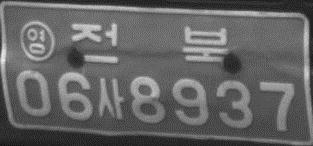0: (16, 69, 52, 117)
3: (215, 79, 253, 130)
6: (56, 71, 93, 122)
7: (258, 80, 295, 132)
8: (128, 75, 166, 124)
9: (171, 77, 209, 126)
사: (98, 77, 124, 120)
영: (19, 19, 56, 61)
전북_D: (71, 22, 229, 67)
